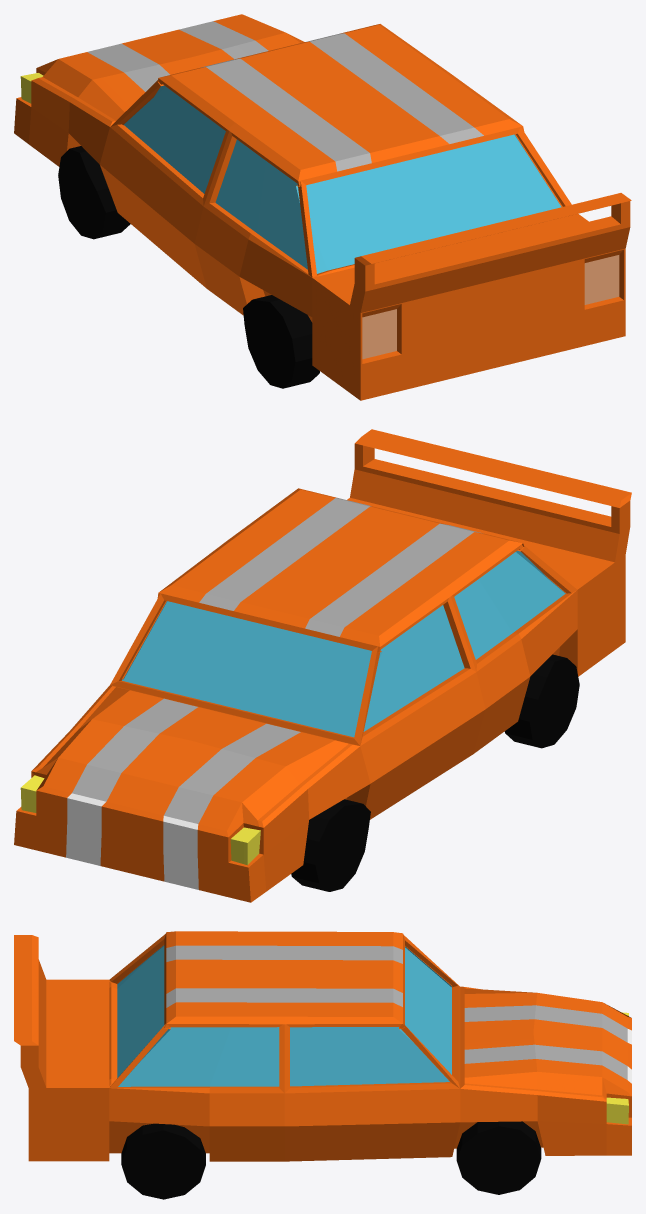
Rendered from PlayerCar 1.fbx.
3 renders of one model, top to bottom at view 1: azimuth 30°, elevation 25°; view 2: azimuth 150°, elevation 25°; view 3: azimuth 270°, elevation 25°, orthographic. The views are drawn at different scales.
Visible parts, largest first — view 1: Cube.001; view 2: Cube.001; view 3: Cube.001.
Boxes of the visible parts, x1=… form: Cube.001: x1=14, y1=14, x2=631, y2=400; Cube.001: x1=14, y1=429, x2=631, y2=902; Cube.001: x1=14, y1=931, x2=631, y2=1199.
Size of the model in its own units: 179 by 388 by 116.
Materials: 2 (2 with a texture image).
